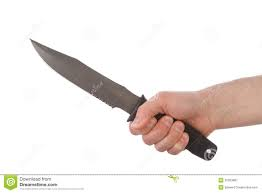weapon-unusual: (26, 35, 227, 164)
